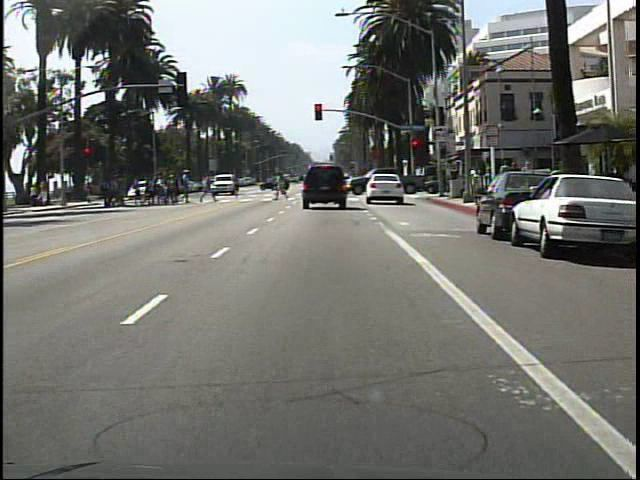person: (228, 167, 247, 202)
